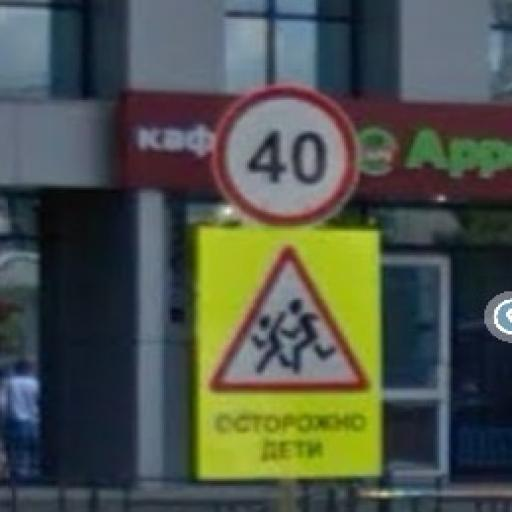traffic_sign: (209, 244, 375, 396), (214, 87, 361, 230)
